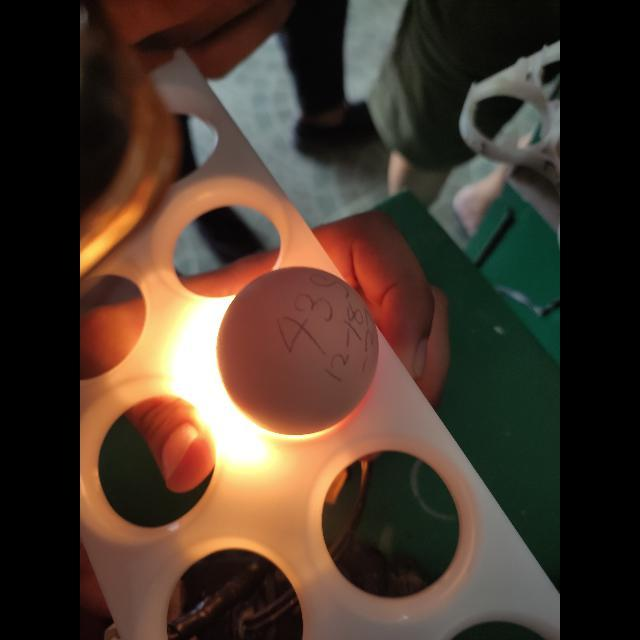Fertile: (212, 261, 384, 437)
